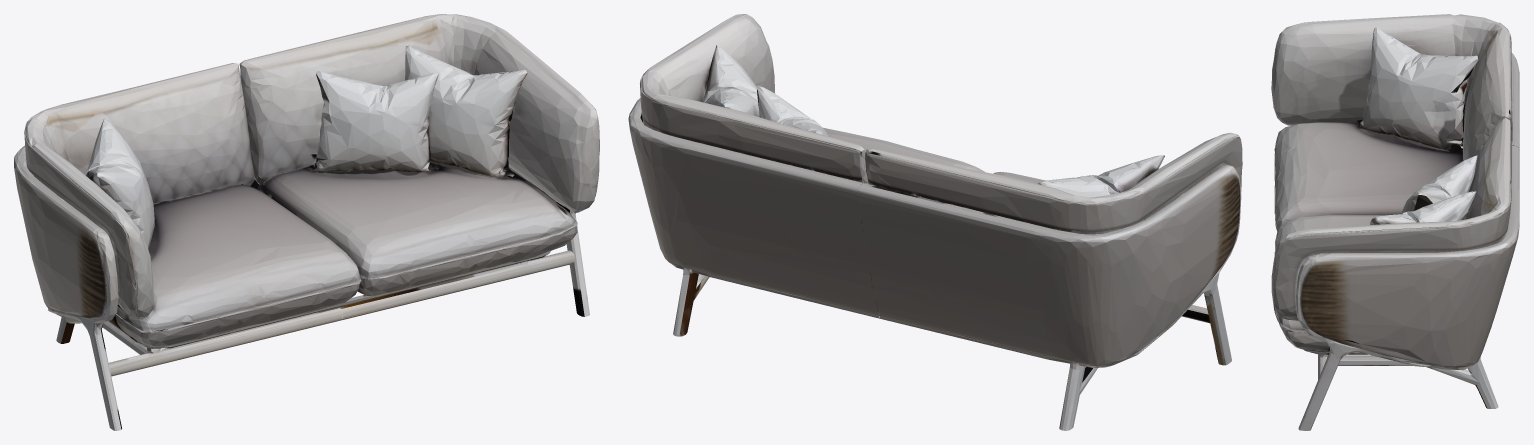
The model's file is edited_mesh.glb.
The picture shows the model from 3 angles, left to right: view 1: azimuth 30°, elevation 25°; view 2: azimuth 150°, elevation 25°; view 3: azimuth 270°, elevation 25°; orthographic projection. The views are drawn at different scales.
Visible parts, largest first — view 1: solid_001_wire; view 2: solid_001_wire; view 3: solid_001_wire.
Boxes of the visible parts, <box> form: solid_001_wire: <box>14,14,599,430</box>; solid_001_wire: <box>628,14,1242,430</box>; solid_001_wire: <box>1271,14,1519,430</box>.
Bounding box in the file's own units: 2 × 0.8758 × 0.9391.
Materials: 1 (1 with a texture image).
